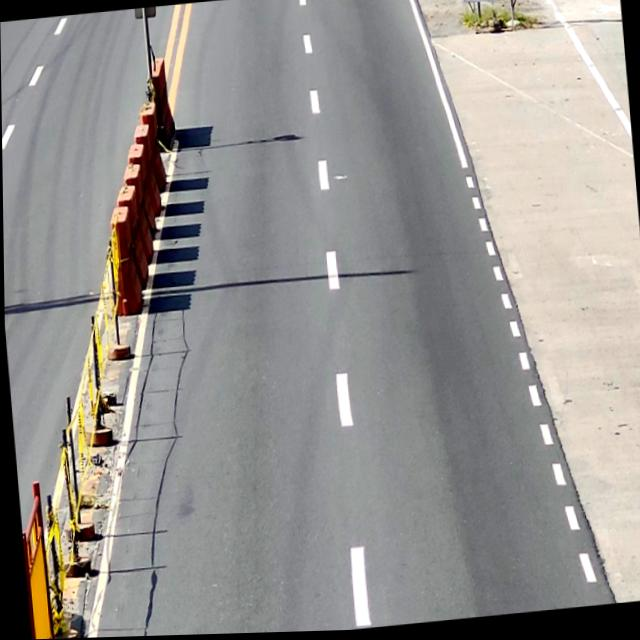E-bike: (0, 0, 613, 640)
